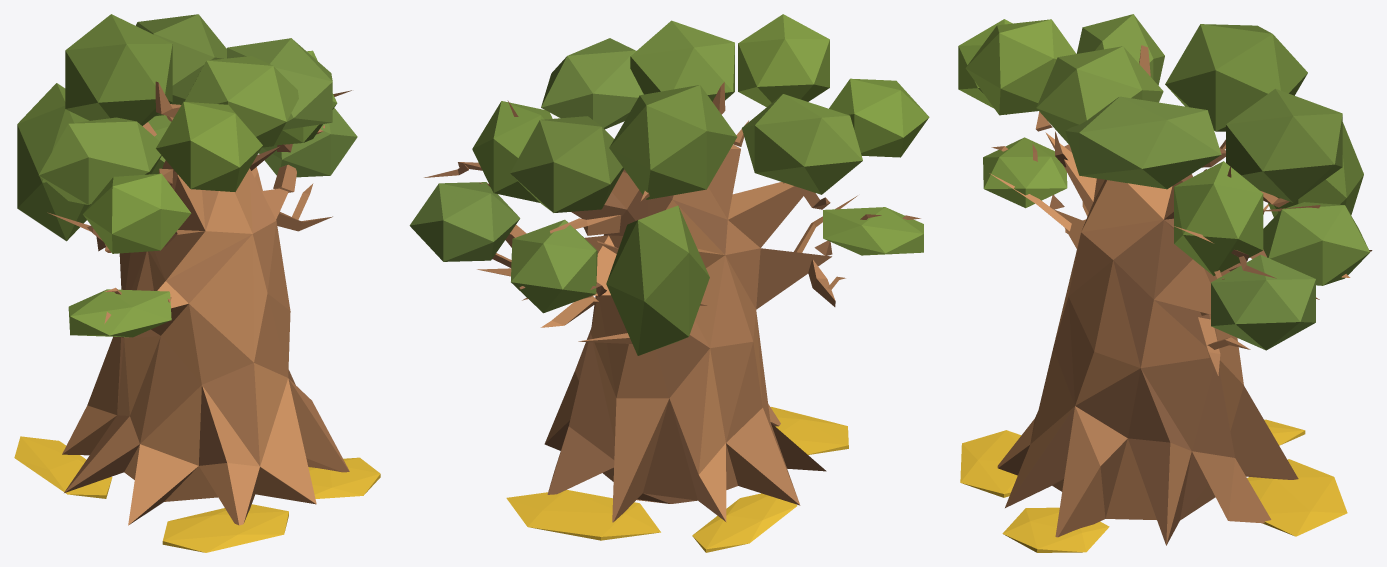
Rendered from giant_baobab_bloom_far.glb.
3 views of the same model, side by side, from view 1: azimuth 30°, elevation 25°; view 2: azimuth 150°, elevation 25°; view 3: azimuth 270°, elevation 25° (orthographic). The views are drawn at different scales.
Visible parts, largest first — view 1: giant_baobab_bloom_far; view 2: giant_baobab_bloom_far; view 3: giant_baobab_bloom_far.
Part boxes in pixels (x1,y1,x2,y2): giant_baobab_bloom_far: (14, 14, 380, 552); giant_baobab_bloom_far: (409, 14, 929, 552); giant_baobab_bloom_far: (958, 14, 1372, 552).
Bounding box in the file's own units: 25.33 × 26.22 × 22.34.
